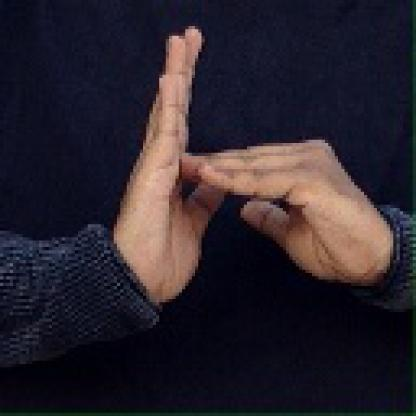Z: (92, 20, 398, 302)
